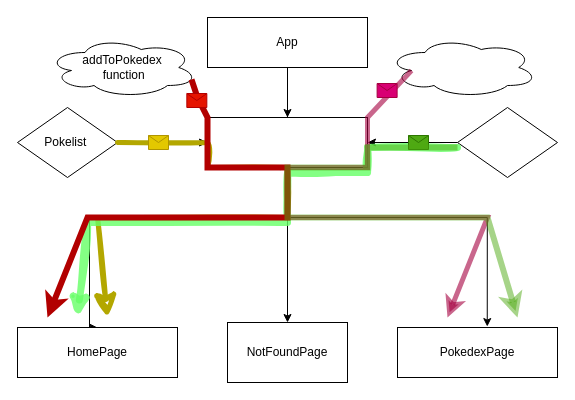
This 575x400 diagram has some shape labels left out. The shapes that lost their labels are listed below. From the top down, each one's centre as x and y in pixels, then its label:
[462,67]: removeFromPokedex function
[287,142]: Router
[507,142]: Pokedex
